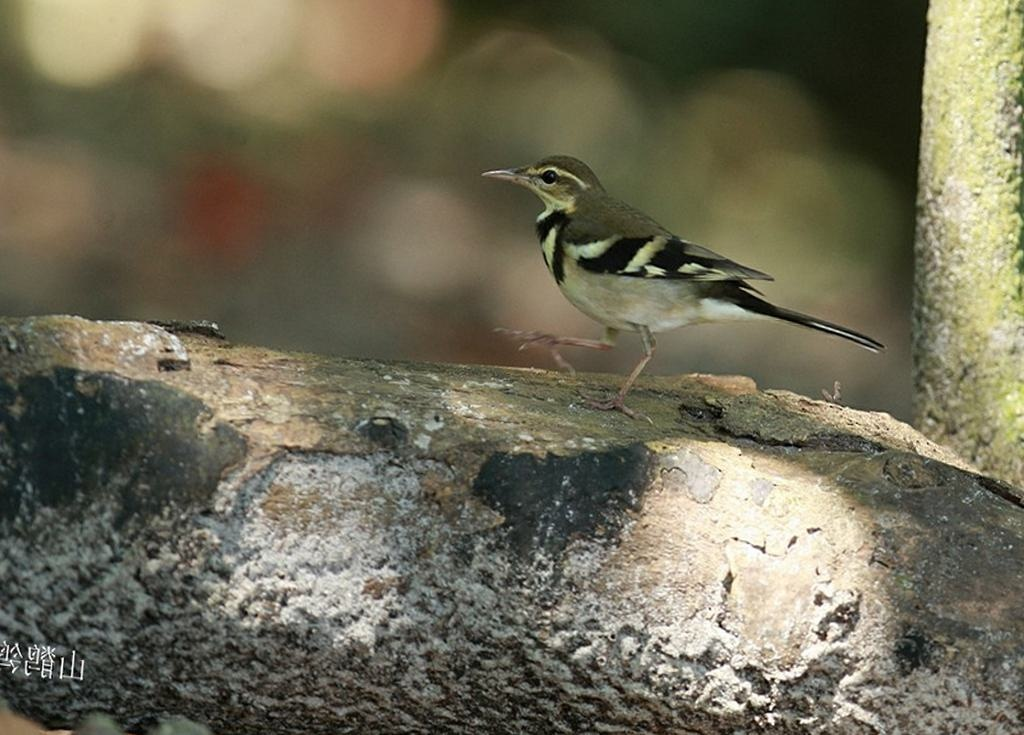wagtail: (467, 151, 879, 405)
